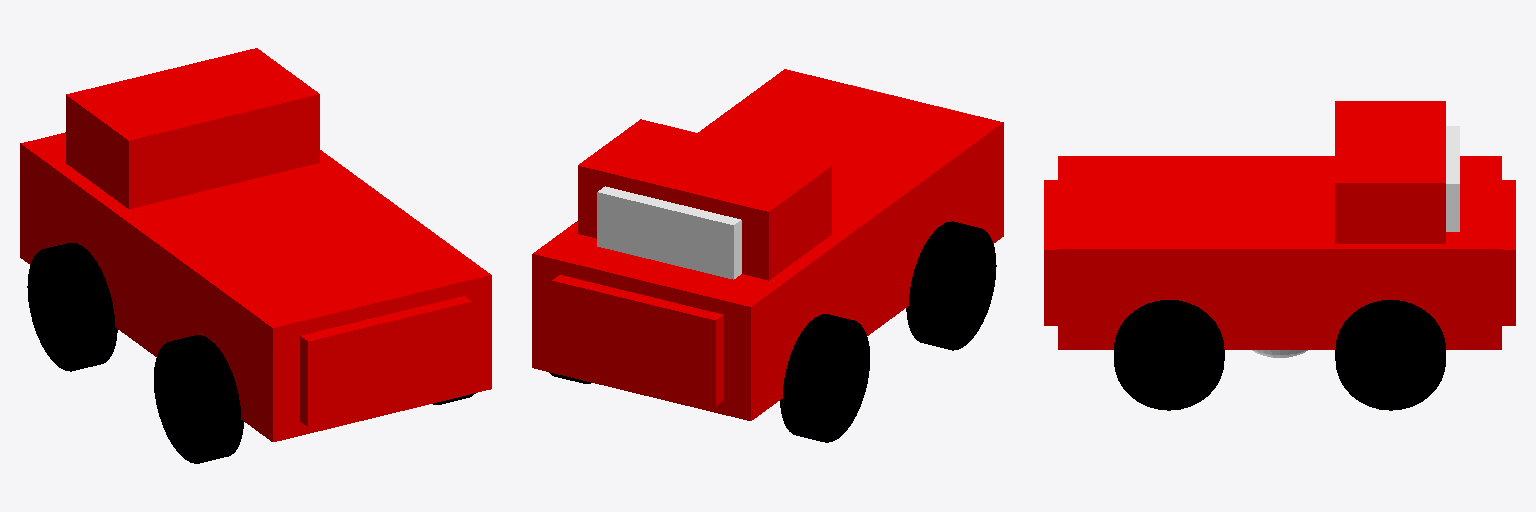
robot.urdf — carro:
<?xml version="1.0"?>
<robot name="carro">

  <!-- colors -->
 
  <material name="red">
    <color rgba="1 0 0 1"/>
  </material>

  <material name="black">
    <color rgba="0 0 0 1"/>
  </material>

  <material name="white">
    <color rgba="1 1 1 1"/>
  </material>

  <!-- links -->

  <link name="base_link">
    <visual>
      <geometry>
        <box size="0.4 0.8 0.2"/>
      </geometry>
      <material name="red"/>
    </visual>
    <collision>
      <geometry> 
        <box size="0.4 0.8 0.2"/>
      </geometry>
    </collision>
    <inertial>
      <mass value="10"/>
      <inertia ixx="0.1" ixy="0.0" ixz="0.0" iyy="0.1" iyz="0.0" izz="0.1" />
    </inertial>
  </link>

  <link name="right_front_wheel">
    <visual>
      <origin rpy="1.57075 0 1.57075" xyz="0 0 0"/>
      <geometry>
        <cylinder length="0.05" radius="0.1"/>
      </geometry>
      <material name="black"/>
    </visual>
    <collision>
      <origin rpy="1.57075 0 1.57075" xyz="0 0 0"/>
      <geometry>
        <cylinder length="0.05" radius="0.1"/>
      </geometry>
    </collision>
    <inertial>
      <mass value="4"/>
      <inertia ixx="0.1" ixy="0.0" ixz="0.0" iyy="0.1" iyz="0.0" izz="0.1"/>
    </inertial>
  </link>

  <link name="left_front_wheel">
    <visual>
      <origin rpy="1.57075 0 1.57075" xyz="0 0 0"/>
      <geometry>
        <cylinder length="0.05" radius="0.1"/>
      </geometry>
      <material name="black"/>
    </visual>
    <collision>
      <origin rpy="1.57075 0 1.57075" xyz="0 0 0"/>
      <geometry>
        <cylinder length="0.05" radius="0.1"/>
      </geometry>
    </collision>
    <inertial>
      <mass value="4"/>
      <inertia ixx="0.1" ixy="0.0" ixz="0.0" iyy="0.1" iyz="0.0" izz="0.1"/>
    </inertial>
  </link>

  <link name="right_back_wheel">
    <visual>
      <origin rpy="1.57075 0 1.57075" xyz="0 0 0"/>
      <geometry>
        <cylinder length="0.05" radius="0.1"/>
      </geometry>
      <material name="black"/>
    </visual>
    <collision>
      <origin rpy="1.57075 0 1.57075" xyz="0 0 0"/>
      <geometry>
        <cylinder length="0.05" radius="0.1"/>
      </geometry>
    </collision>
    <inertial>
      <mass value="4"/>
      <inertia ixx="0.1" ixy="0.0" ixz="0.0" iyy="0.1" iyz="0.0" izz="0.1"/>
    </inertial>
  </link>

  <link name="left_back_wheel">
    <visual>
      <origin rpy="1.57075 0 1.57075" xyz="0 0 0"/>
      <geometry>
        <cylinder length="0.05" radius="0.1"/>
      </geometry>
      <material name="black"/>
    </visual>
    <collision>
      <origin rpy="1.57075 0 1.57075" xyz="0 0 0"/>
      <geometry>
        <cylinder length="0.05" radius="0.1"/>
      </geometry>
    </collision>
    <inertial>
      <mass value="4"/>
      <inertia ixx="0.1" ixy="0.0" ixz="0.0" iyy="0.1" iyz="0.0" izz="0.1"/>
    </inertial>
  </link>

  <link name="center_sphere">
    <visual>
      <geometry>
        <sphere radius="0.1"/>
      </geometry>
      <material name="white"/>
    </visual>
    <collision>
      <geometry>
        <sphere radius="0.1"/>
      </geometry>
    </collision>
    <inertial>
      <mass value="4"/>
      <inertia ixx="0.1" ixy="0.0" ixz="0.0" iyy="0.1" iyz="0.0" izz="0.1"/>
    </inertial>
  </link>

  <link name="top">
    <visual>
      <geometry>
        <box size="0.35 0.2 0.2"/>
      </geometry>
      <material name="red"/>
    </visual>
    <collision>
      <geometry>
        <box size="0.35 0.2 0.2"/>
      </geometry>
    </collision>
    <inertial>
      <mass value="1"/>
      <inertia ixx="0.1" ixy="0.0" ixz="0.0" iyy="0.1" iyz="0.0" izz="0.1"/>
    </inertial>
  </link>

  <link name="mirror">
    <visual>
      <geometry>
        <box size="0.25 0.05 0.15"/>
      </geometry>
      <material name="white"/>
    </visual>
    <collision>
      <geometry>
        <box size="0.25 0.05 0.15"/>
      </geometry>
    </collision>
    <inertial>
      <mass value="1"/>
      <inertia ixx="0.1" ixy="0.0" ixz="0.0" iyy="0.1" iyz="0.0" izz="0.1"/>
    </inertial>
  </link>

  <link name="front">
    <visual>
      <geometry>
        <box size="0.3 0.05 0.15"/>
      </geometry>
      <material name="red"/>
    </visual>
    <collision>
      <geometry>
        <box size="0.3 0.05 0.15"/>
      </geometry>
    </collision>
    <inertial>
      <mass value="1"/>
      <inertia ixx="0.1" ixy="0.0" ixz="0.0" iyy="0.1" iyz="0.0" izz="0.1"/>
    </inertial>
  </link>

  <link name="back">
    <visual>
      <geometry>
        <box size="0.3 0.05 0.15"/>
      </geometry>
      <material name="red"/>
    </visual>
    <collision>
      <geometry>
        <box size="0.3 0.05 0.15"/>
      </geometry>
    </collision>
    <inertial>
      <mass value="1"/>
      <inertia ixx="0.1" ixy="0.0" ixz="0.0" iyy="0.1" iyz="0.0" izz="0.1"/>
    </inertial>
  </link>

  <!-- joints -->

  <joint name="right_front_wheel_joint" type="continuous">
    <axis rpy="0 0 0" xyz="-1 0 0"/>
    <parent link="base_link"/>
    <child link="right_front_wheel"/>
    <origin rpy="0 0 0" xyz="0.22 0.2 -0.1"/>
    <limit effort="10000" velocity="1000"/>
    <joint_properties damping="1.0" friction="1.0"/>
  </joint>

  <joint name="left_front_wheel_joint" type="continuous">
    <axis rpy="0 0 0" xyz="-1 0 0"/>
    <parent link="base_link"/>
    <child link="left_front_wheel"/>
    <origin rpy="0 0 0" xyz="-0.22 0.2 -0.1"/>
    <limit effort="10000" velocity="1000"/>
    <joint_properties damping="1.0" friction="1.0"/>
  </joint>

  <joint name="right_back_wheel_joint" type="continuous">
    <axis rpy="0 0 0" xyz="-1 0 0"/>
    <parent link="base_link"/>
    <child link="right_back_wheel"/>
    <origin rpy="0 0 0" xyz="0.22 -0.2 -0.1"/>
    <limit effort="10000" velocity="1000"/>
    <joint_properties damping="1.0" friction="1.0"/>
  </joint>

  <joint name="left_back_wheel_joint" type="continuous">
    <axis rpy="0 0 0" xyz="-1 0 0"/>
    <parent link="base_link"/>
    <child link="left_back_wheel"/>
    <origin rpy="0 0 0" xyz="-0.22 -0.2 -0.1"/>
    <limit effort="10000" velocity="1000"/>
    <joint_properties damping="1.0" friction="1.0"/>
  </joint>

  <joint name="center_sphere_joint" type="continuous">
    <axis rpy="0 0 0" xyz="0 0 1"/>
    <parent link="base_link"/>
    <child link="center_sphere"/>
    <origin rpy="0 0 0" xyz="0 0 -0.1"/>
  </joint>

  <joint name="top_joint" type="fixed">
    <parent link="base_link"/>
    <child link="top"/>
    <origin rpy="0 0 0" xyz="0 0.2 0.12"/>
  </joint>

  <joint name="mirror_joint" type="fixed">
    <parent link="base_link"/>
    <child link="mirror"/>
    <origin rpy="0 0 0" xyz="0 0.3 0.12"/>
  </joint>

  <joint name="front_joint" type="fixed">
    <parent link="base_link"/>
    <child link="front"/>
    <origin rpy="0 0 0" xyz="0 0.4 0"/>
  </joint>

  <joint name="back_joint" type="fixed">
    <parent link="base_link"/>
    <child link="back"/>
    <origin rpy="0 0 0" xyz="0 -0.4 0"/>
  </joint>

  <!-- transmissions -->

  <transmission name="right_front_wheel_transmission">
    <type>transmission_interface/SimpleTransmission</type>
    <joint name="right_front_wheel_joint">
      <hardwareInterface>hardware_interface/PositionJointInterface</hardwareInterface>
    </joint>
    <actuator name="right_front_wheel_actuator">
        <hardwareInterface>hardware_interface/PositionJointInterface</hardwareInterface>
      <mechanicalReduction>1</mechanicalReduction>
    </actuator>    
  </transmission>

  <transmission name="left_front_wheel_transmission">
    <type>transmission_interface/SimpleTransmission</type>
    <joint name="left_front_wheel_joint">
      <hardwareInterface>hardware_interface/PositionJointInterface</hardwareInterface>
    </joint>
    <actuator name="left_front_wheel_actuator">
        <hardwareInterface>hardware_interface/PositionJointInterface</hardwareInterface>
      <mechanicalReduction>1</mechanicalReduction>
    </actuator>    
  </transmission>

  <transmission name="right_back_wheel_transmission">
    <type>transmission_interface/SimpleTransmission</type>
    <joint name="right_back_wheel_joint">
      <hardwareInterface>hardware_interface/PositionJointInterface</hardwareInterface>
    </joint>
    <actuator name="right_back_wheel_actuator">
        <hardwareInterface>hardware_interface/PositionJointInterface</hardwareInterface>
      <mechanicalReduction>1</mechanicalReduction>
    </actuator>    
  </transmission>

  <transmission name="left_back_wheel_transmission">
    <type>transmission_interface/SimpleTransmission</type>
    <joint name="left_back_wheel_joint">
      <hardwareInterface>hardware_interface/PositionJointInterface</hardwareInterface>
    </joint>
    <actuator name="left_back_wheel_actuator">
        <hardwareInterface>hardware_interface/PositionJointInterface</hardwareInterface>
      <mechanicalReduction>1</mechanicalReduction>
    </actuator>    
  </transmission>  

  <!-- colors for gazebo -->

  <gazebo reference="base_link">
    <material>Gazebo/Red</material>
  </gazebo>

  <gazebo reference="top">
    <material>Gazebo/Red</material>
  </gazebo>

  <gazebo reference="front">
    <material>Gazebo/Red</material>
  </gazebo>

  <gazebo reference="back">
    <material>Gazebo/Red</material>
  </gazebo>

  <gazebo reference="mirror">
    <material>Gazebo/White</material>
  </gazebo>

  <gazebo reference="center_sphere">
    <material>Gazebo/White</material>
  </gazebo>

  <gazebo reference="right_front_wheel">
    <material>Gazebo/Black</material>
  </gazebo>

  <gazebo reference="left_front_wheel">
    <material>Gazebo/Black</material>
  </gazebo>

  <gazebo reference="right_back_wheel">
    <material>Gazebo/Black</material>
  </gazebo>

  <gazebo reference="left_back_wheel">
    <material>Gazebo/Black</material>
  </gazebo>
 
  <!-- gazebo plugins -->

  <gazebo>
    <plugin name="gazebo_ros_control" filename="libgazebo_ros_control.so">
      <robotNamespace>/carro</robotNamespace>
    </plugin>

    <plugin name="skid_steer_drive_controller" filename="libgazebo_ros_skid_steer_drive.so">
      <updateRate>100.0</updateRate>
      <robotNamespace>/carro</robotNamespace>
      <leftFrontJoint>left_front_wheel_joint</leftFrontJoint>
      <rightFrontJoint>right_front_wheel_joint</rightFrontJoint>
      <leftRearJoint>left_back_wheel_joint</leftRearJoint>
      <rightRearJoint>right_back_wheel_joint</rightRearJoint>
      <wheelSeparation>0.4</wheelSeparation>
      <wheelDiameter>0.2</wheelDiameter>
      <robotBaseFrame>base_link</robotBaseFrame>
      <torque>20</torque>
      <topicName>cmd_vel</topicName>
      <broadcastTF>false</broadcastTF>
    </plugin>
  </gazebo>

</robot>

--- Facts derived from the render (not from the file) ---
The picture shows the robot from 3 angles, left to right: view 1: azimuth 30°, elevation 25°; view 2: azimuth 150°, elevation 25°; view 3: azimuth 270°, elevation 25°; orthographic projection.
Model carro with 10 links and 9 joints (5 continuous, 4 fixed), rooted at base_link, posed all joints at 0.
Links seen in each view (by area): view 1: base_link, top, back, left_front_wheel, left_back_wheel; view 2: base_link, top, front, mirror, left_back_wheel, left_front_wheel; view 3: base_link, top, right_front_wheel, right_back_wheel, front, back, mirror.
Boxes of the visible links, x1=… form: base_link: x1=20, y1=132, x2=491, y2=441; top: x1=66, y1=48, x2=319, y2=208; back: x1=300, y1=296, x2=471, y2=426; left_front_wheel: x1=27, y1=242, x2=117, y2=371; left_back_wheel: x1=154, y1=335, x2=243, y2=463; base_link: x1=532, y1=69, x2=1003, y2=420; top: x1=578, y1=119, x2=831, y2=280; front: x1=552, y1=275, x2=723, y2=405; mirror: x1=597, y1=186, x2=741, y2=279; left_back_wheel: x1=906, y1=221, x2=996, y2=350; left_front_wheel: x1=780, y1=314, x2=869, y2=442; base_link: x1=1058, y1=156, x2=1501, y2=349; top: x1=1335, y1=101, x2=1445, y2=243; right_front_wheel: x1=1335, y1=300, x2=1445, y2=410; right_back_wheel: x1=1114, y1=300, x2=1224, y2=410; front: x1=1502, y1=180, x2=1515, y2=325; back: x1=1044, y1=180, x2=1057, y2=325; mirror: x1=1446, y1=126, x2=1459, y2=231.
Size in the robot's own frame: 0.49 by 0.85 by 0.42 metres.
Geometry: primitives only (box / cylinder / sphere), no mesh files.